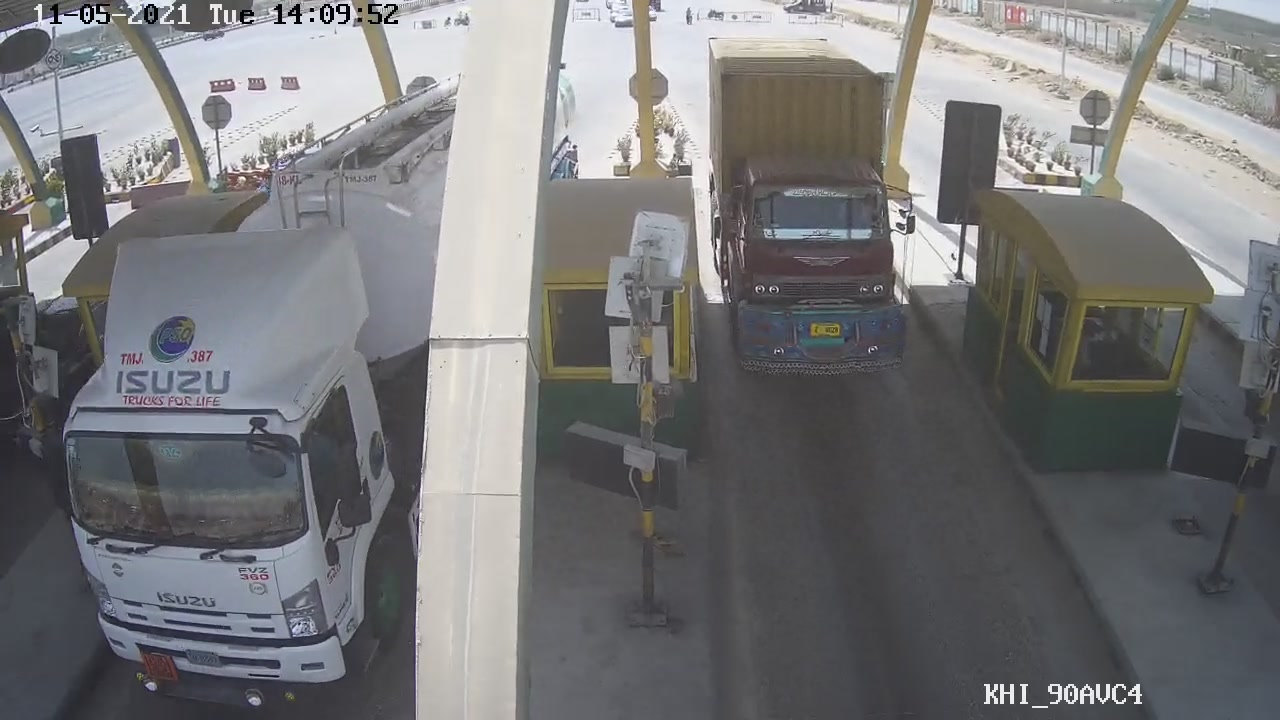F6: (694, 44, 915, 386)
